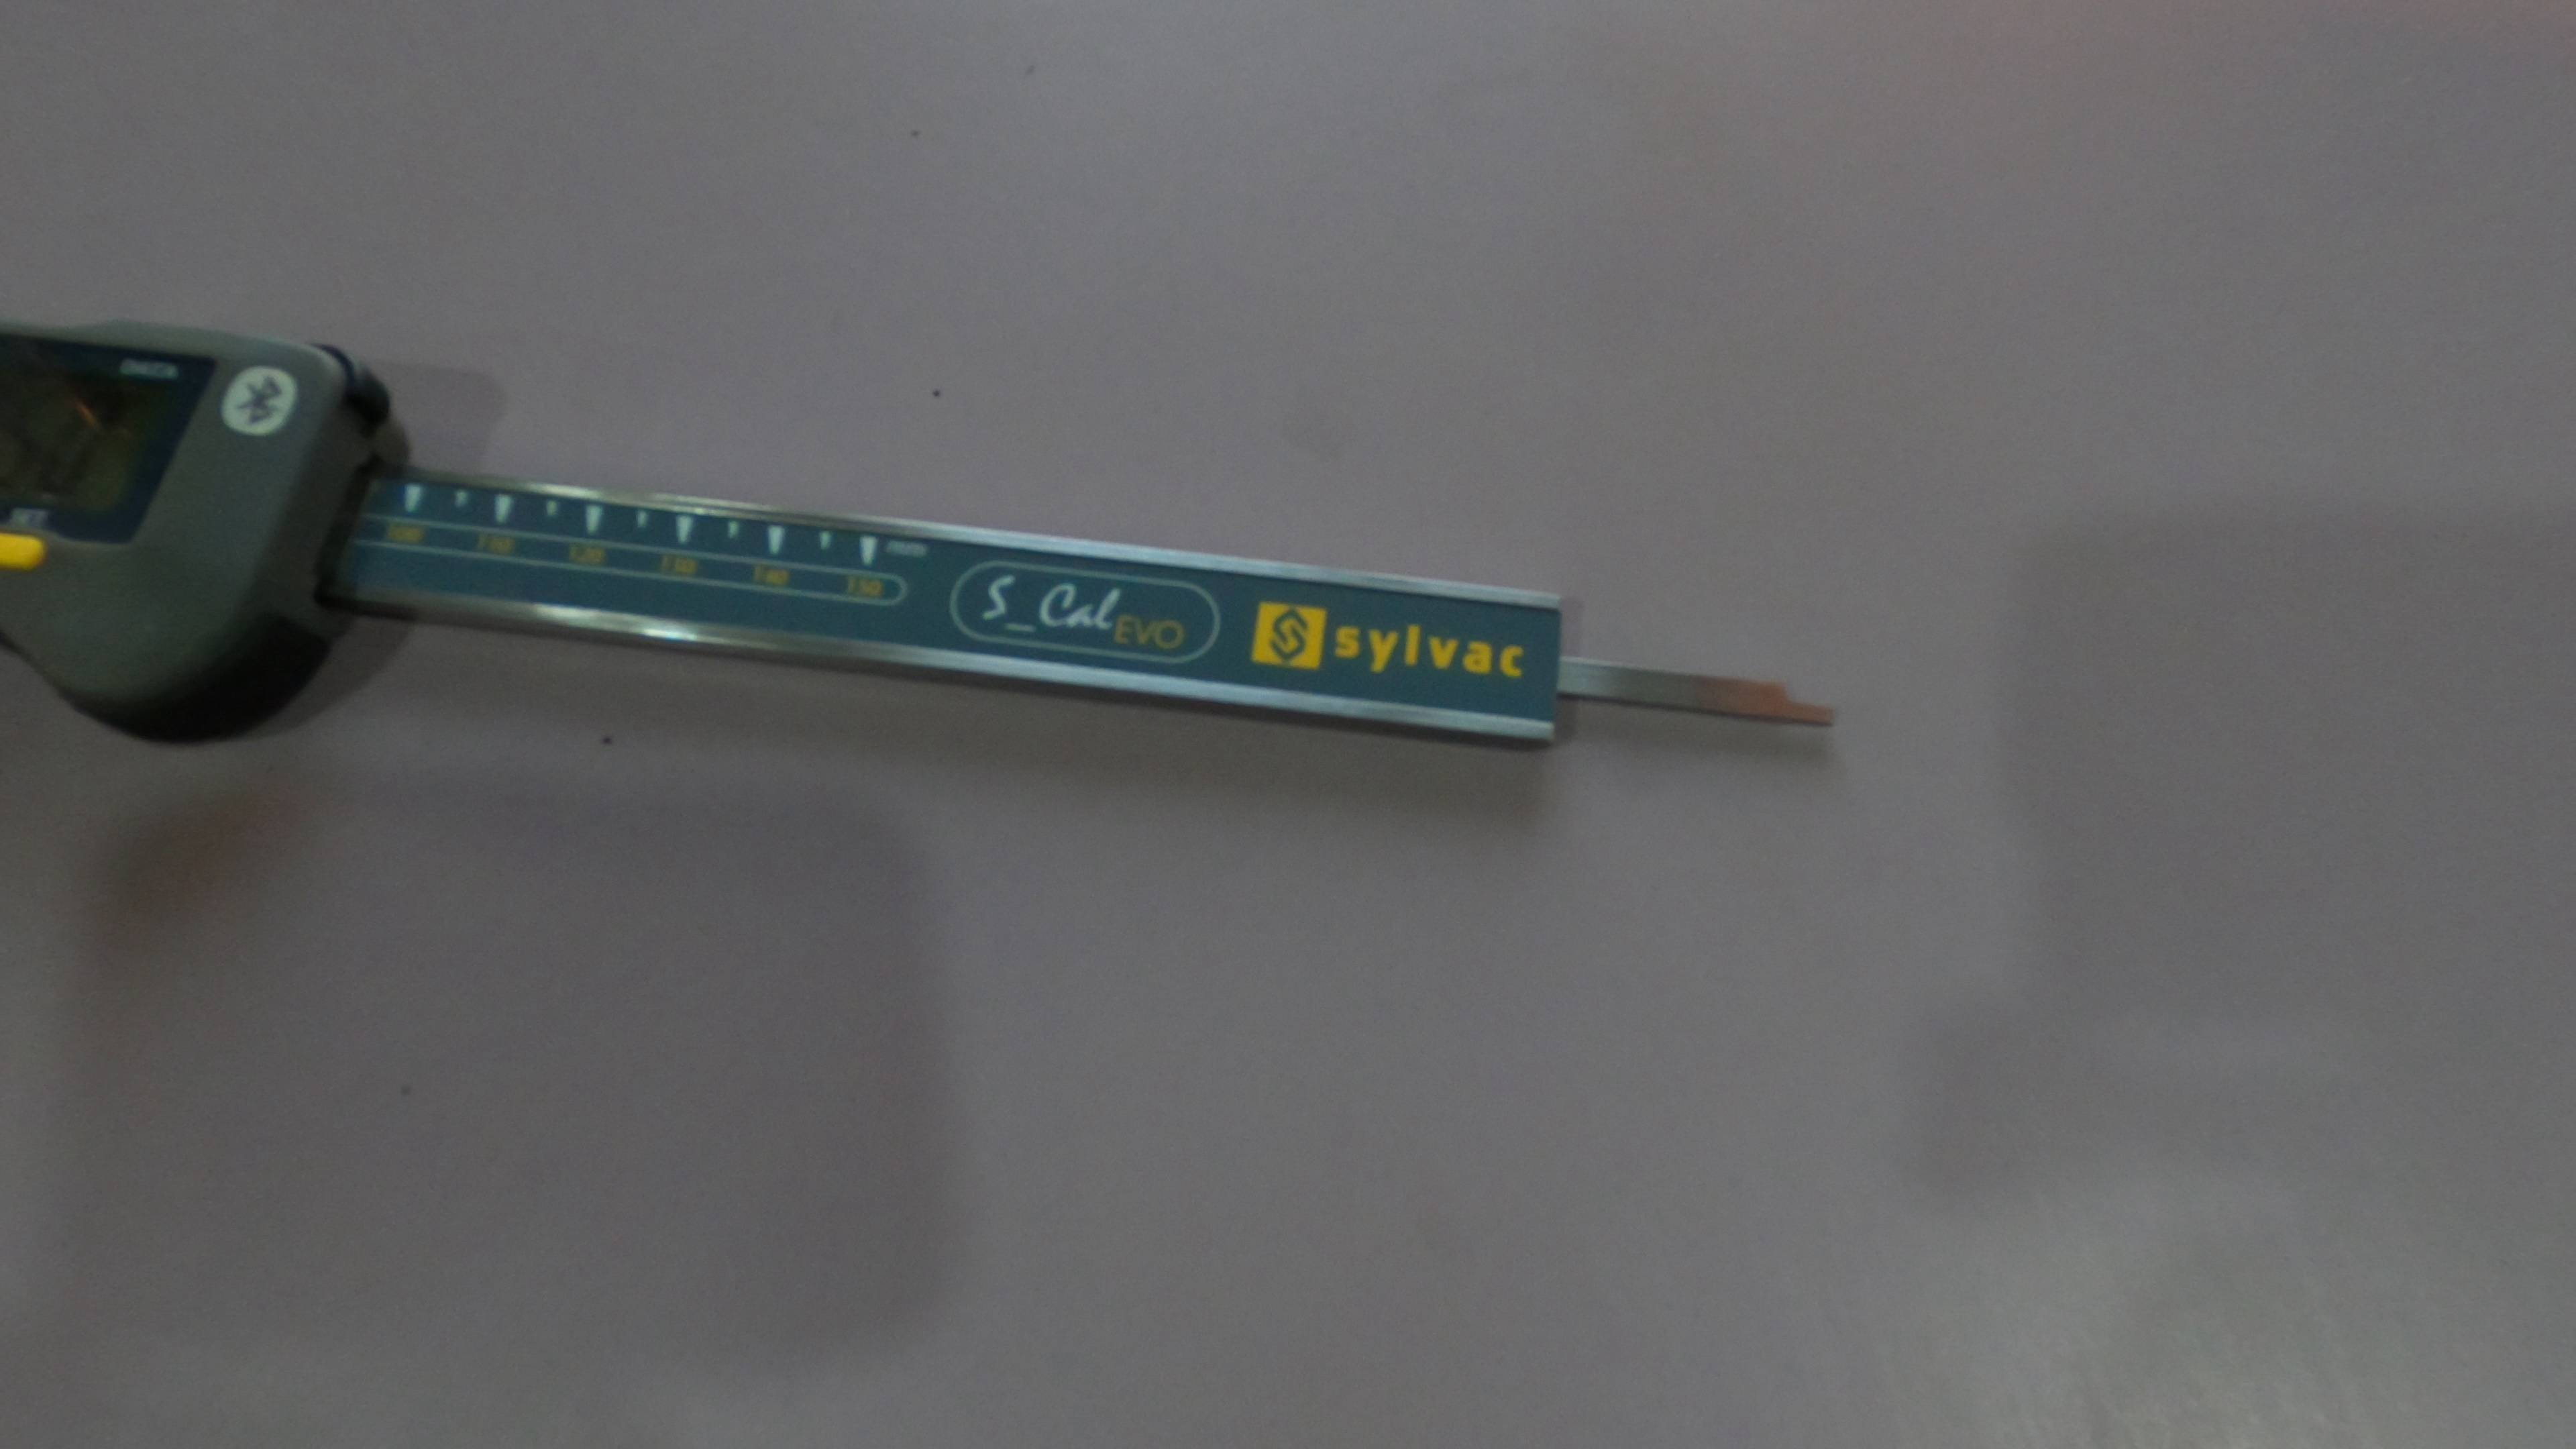vernier_caliper: (11, 278, 1863, 757)
